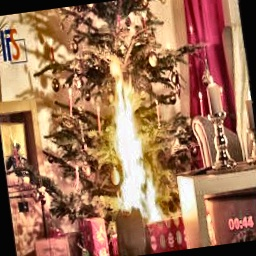fire: (77, 48, 187, 247)
